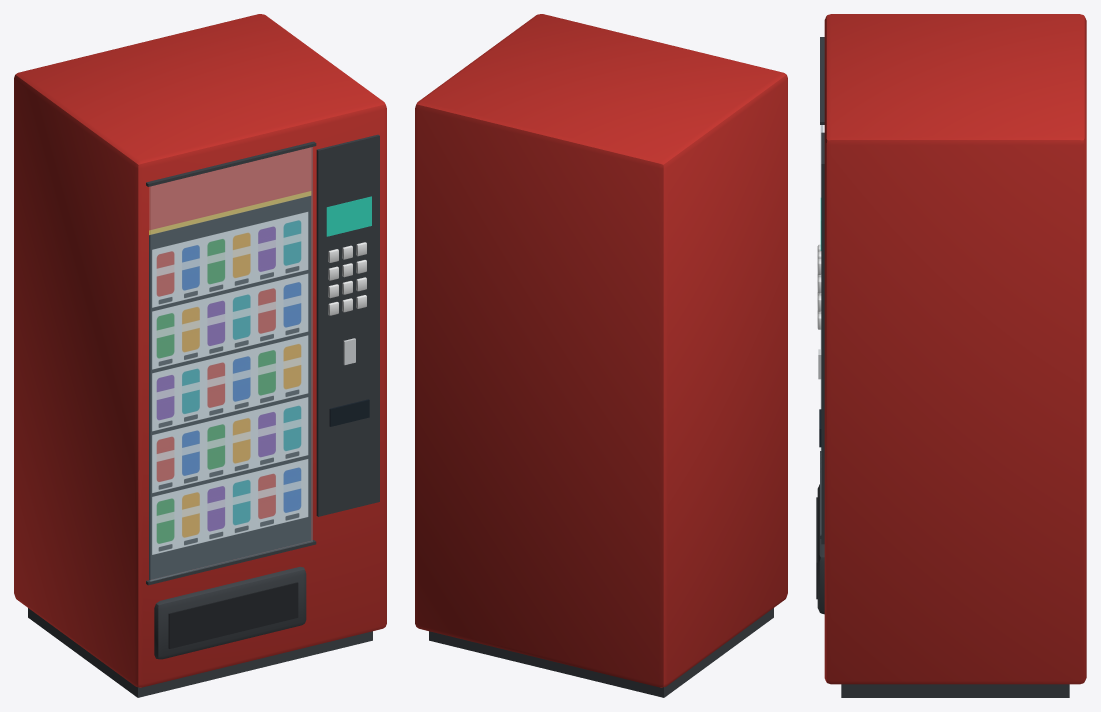
File: vending-machine.glb
The picture shows the model from 3 angles, left to right: view 1: azimuth 30°, elevation 25°; view 2: azimuth 150°, elevation 25°; view 3: azimuth 270°, elevation 25°; orthographic projection. The views are drawn at different scales.
Visible parts, largest first — view 1: Vending_Machine; view 2: Vending_Machine; view 3: Vending_Machine.
Boxes of the visible parts, x1,y1,x2,y2 form: Vending_Machine: [14, 14, 386, 697]; Vending_Machine: [415, 14, 787, 697]; Vending_Machine: [816, 14, 1086, 697].
Size of the model in its own units: 0.9 by 1.85 by 0.804.
Materials: 9 (1 with a texture image).
